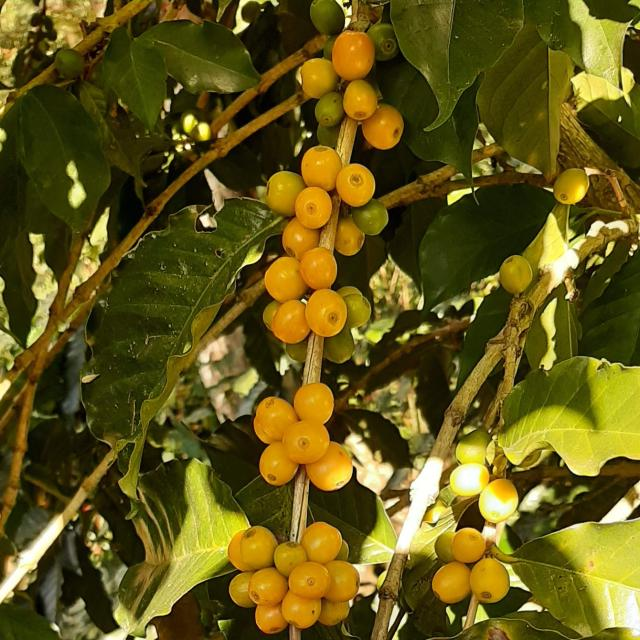green: (265, 171, 306, 216), (239, 526, 278, 571), (433, 562, 472, 605), (301, 57, 340, 98), (324, 562, 360, 604), (352, 199, 389, 235), (367, 22, 400, 60), (335, 215, 365, 256), (274, 543, 308, 579), (310, 0, 345, 34), (323, 327, 355, 364), (315, 91, 345, 126), (228, 573, 256, 609), (343, 294, 372, 328), (318, 599, 350, 627), (317, 123, 341, 147), (263, 300, 281, 331), (285, 340, 307, 363), (323, 35, 338, 59), (335, 541, 350, 562)
red: (306, 442, 353, 492), (332, 30, 375, 80), (282, 421, 330, 465), (264, 257, 309, 303), (305, 289, 348, 337), (362, 103, 404, 150), (255, 397, 298, 441), (301, 145, 342, 191), (300, 523, 342, 566), (259, 442, 299, 487), (336, 163, 376, 207), (271, 300, 311, 344), (294, 383, 334, 425), (282, 217, 320, 261), (300, 247, 338, 290), (295, 186, 332, 229), (288, 563, 331, 600), (227, 532, 255, 573), (255, 603, 289, 635), (253, 418, 275, 445)
